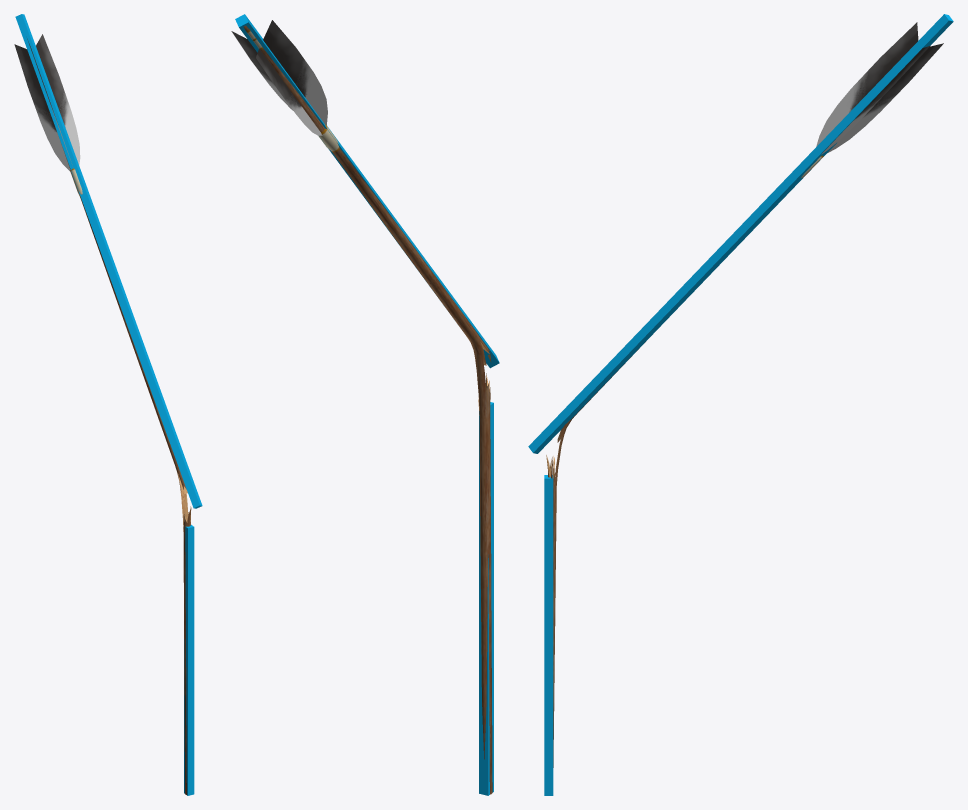
Rendered from JWC_Arrow_A_03.fbx.
3 renders of one model, left to right at view 1: azimuth 30°, elevation 25°; view 2: azimuth 150°, elevation 25°; view 3: azimuth 270°, elevation 25°, orthographic. The views are drawn at different scales.
Visible parts, largest first — view 1: C_JWC_Arrow_A_03, JWC_Arrow_A_03, C_JWC_Arrow_A_03_001; view 2: JWC_Arrow_A_03, C_JWC_Arrow_A_03_001, C_JWC_Arrow_A_03; view 3: C_JWC_Arrow_A_03, JWC_Arrow_A_03, C_JWC_Arrow_A_03_001.
Part boxes in pixels (x1,y1,x2,y2): C_JWC_Arrow_A_03: (15, 14, 202, 508); JWC_Arrow_A_03: (14, 34, 191, 794); C_JWC_Arrow_A_03_001: (184, 524, 194, 795); JWC_Arrow_A_03: (231, 20, 492, 794); C_JWC_Arrow_A_03_001: (479, 402, 493, 795); C_JWC_Arrow_A_03: (235, 14, 499, 368); C_JWC_Arrow_A_03: (528, 14, 953, 453); JWC_Arrow_A_03: (546, 22, 943, 767); C_JWC_Arrow_A_03_001: (544, 475, 553, 795).
Bounding box in the file's own units: 0.0394 × 0.9884 × 0.4888.
